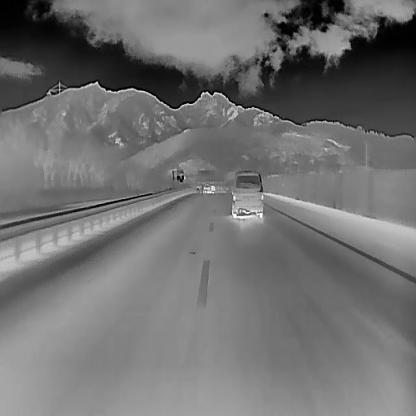car: (229, 170, 263, 218), (200, 183, 210, 194), (209, 183, 215, 193)
